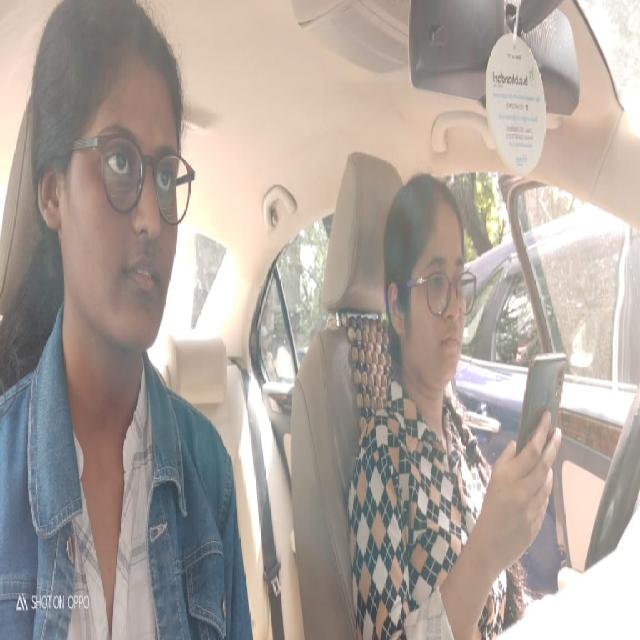mobile: (510, 330, 569, 517)
person: (30, 5, 198, 368), (385, 153, 481, 418)
